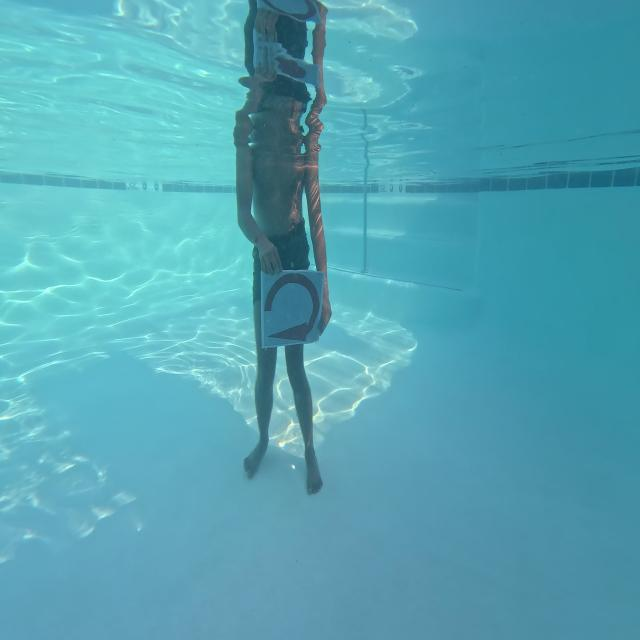red_side: (260, 262, 324, 349)
